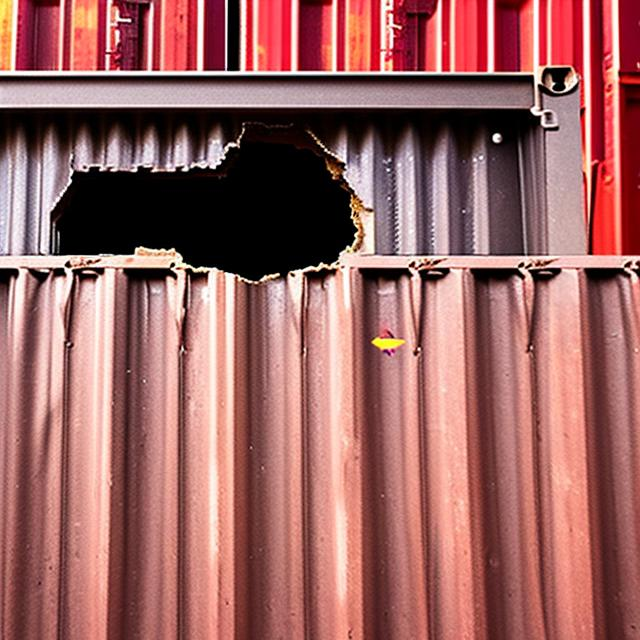hole: (36, 115, 376, 296)
